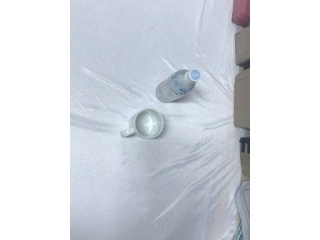bottle: (155, 69, 200, 103)
cup: (119, 105, 165, 143)
